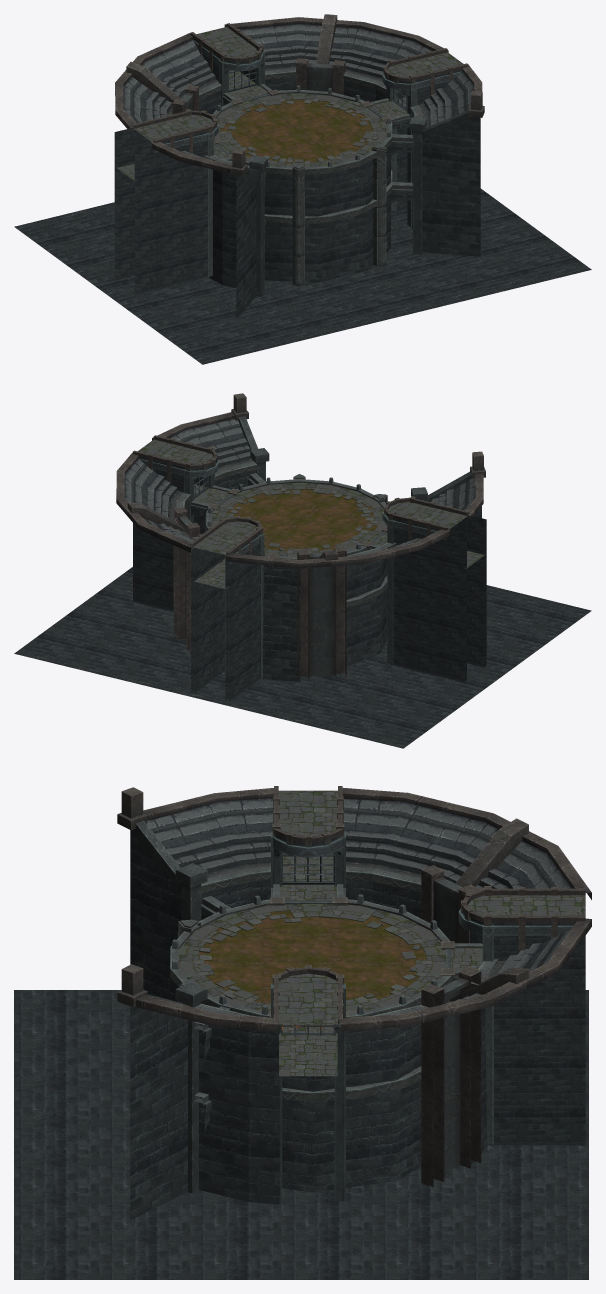
File: terrain_jingjichang.FBX
3 views of the same model, one above another, from view 1: azimuth 30°, elevation 25°; view 2: azimuth 150°, elevation 25°; view 3: azimuth 270°, elevation 25° (orthographic). The views are drawn at different scales.
Parts seen in each view (by area): view 1: terrain_jingjichang; view 2: terrain_jingjichang; view 3: terrain_jingjichang.
Part boxes in pixels (left/top/right/bottom): terrain_jingjichang: left=14, top=14, right=591, bottom=364; terrain_jingjichang: left=14, top=393, right=591, bottom=748; terrain_jingjichang: left=14, top=786, right=591, bottom=1279.
Bounding box in the file's own units: 84.58 × 71.31 × 34.68.
